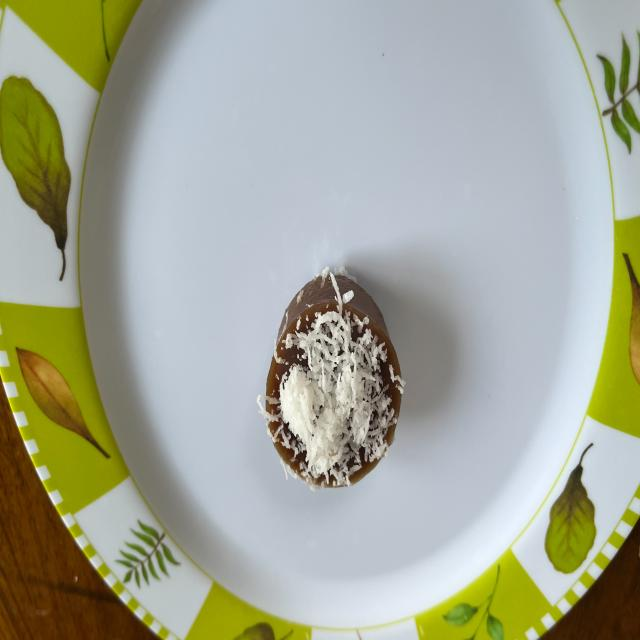Kuih lompang: (258, 267, 405, 489)
